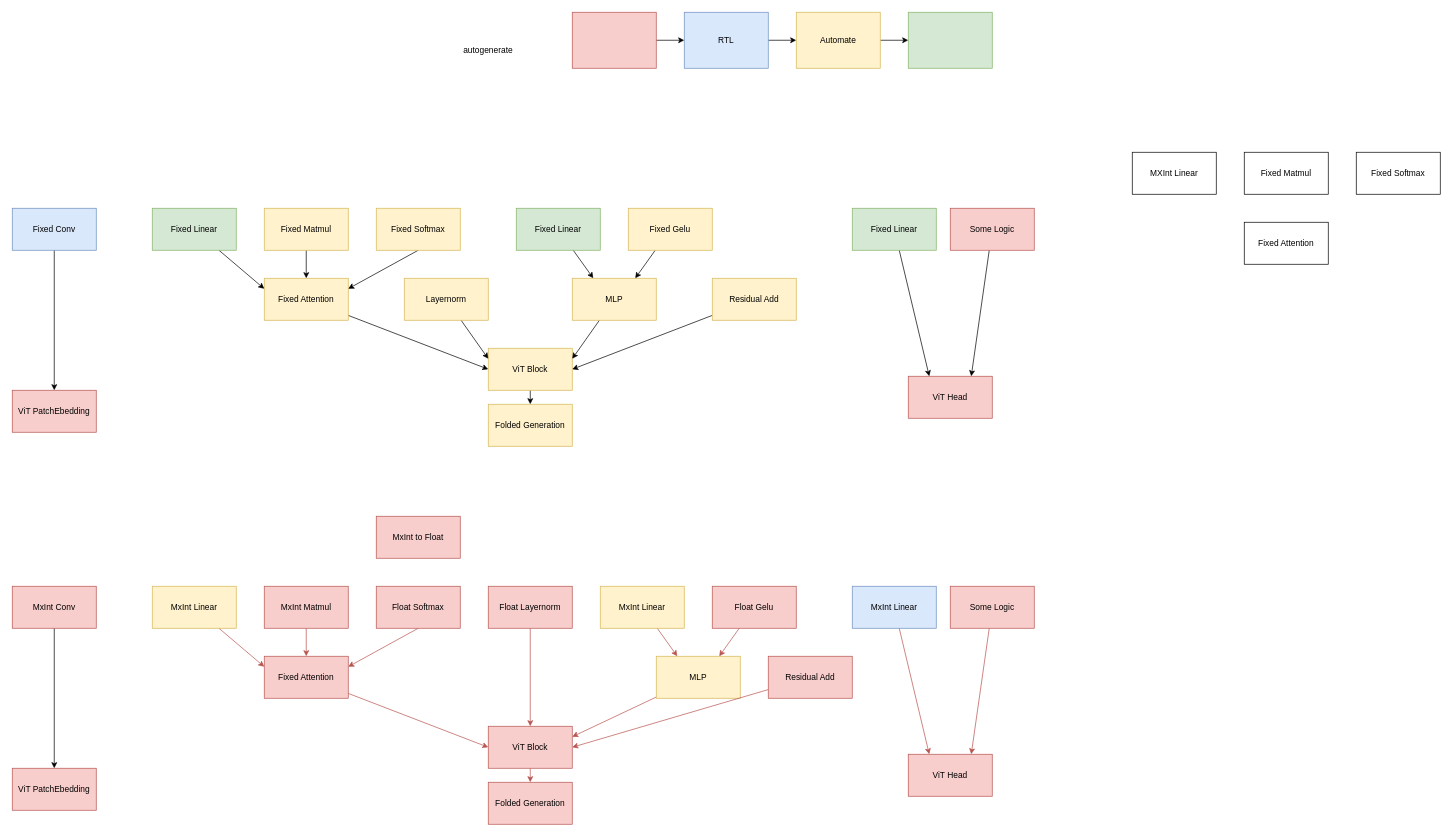
This 1453x837 diagram has some shape labels left out. The shapes that lost their labels are listed below. From the top down, each one's centre as x and y in pixels, then its label:
At point 614,40: "None".
At point 950,40: "Finished Timing".
